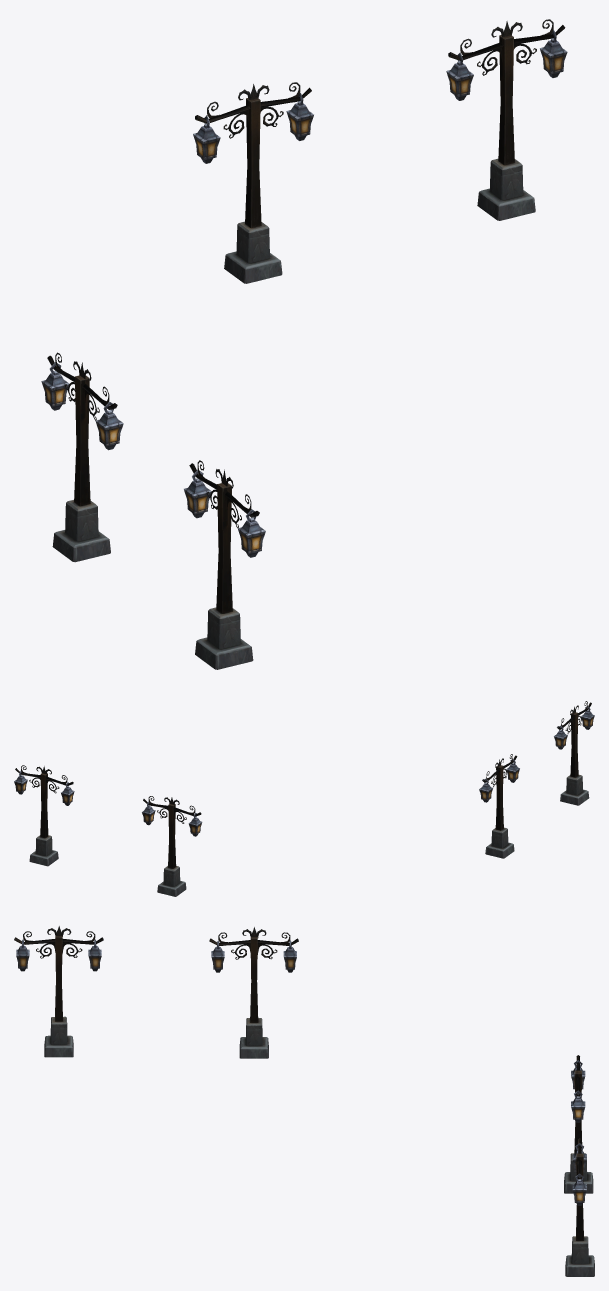
File: menu_object_lampposts_05.fbx
The picture shows the model from 3 angles, top to bottom: view 1: azimuth 30°, elevation 25°; view 2: azimuth 150°, elevation 25°; view 3: azimuth 270°, elevation 25°; orthographic projection. The views are drawn at different scales.
Parts seen in each view (by area): view 1: menu_object_lampposts_05-0; view 2: menu_object_lampposts_05-0; view 3: menu_object_lampposts_05-0.
Part boxes in pixels (box(x1,y1,x2,y2)): menu_object_lampposts_05-0: box(41, 19, 567, 669); menu_object_lampposts_05-0: box(14, 701, 594, 896); menu_object_lampposts_05-0: box(14, 926, 594, 1276).
Bounding box in the file's own units: 19.66 × 4.73 × 19.74.
